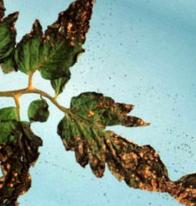Tomato Septoria leaf spot: (40, 69, 196, 206), (5, 0, 111, 102), (0, 95, 68, 191)
